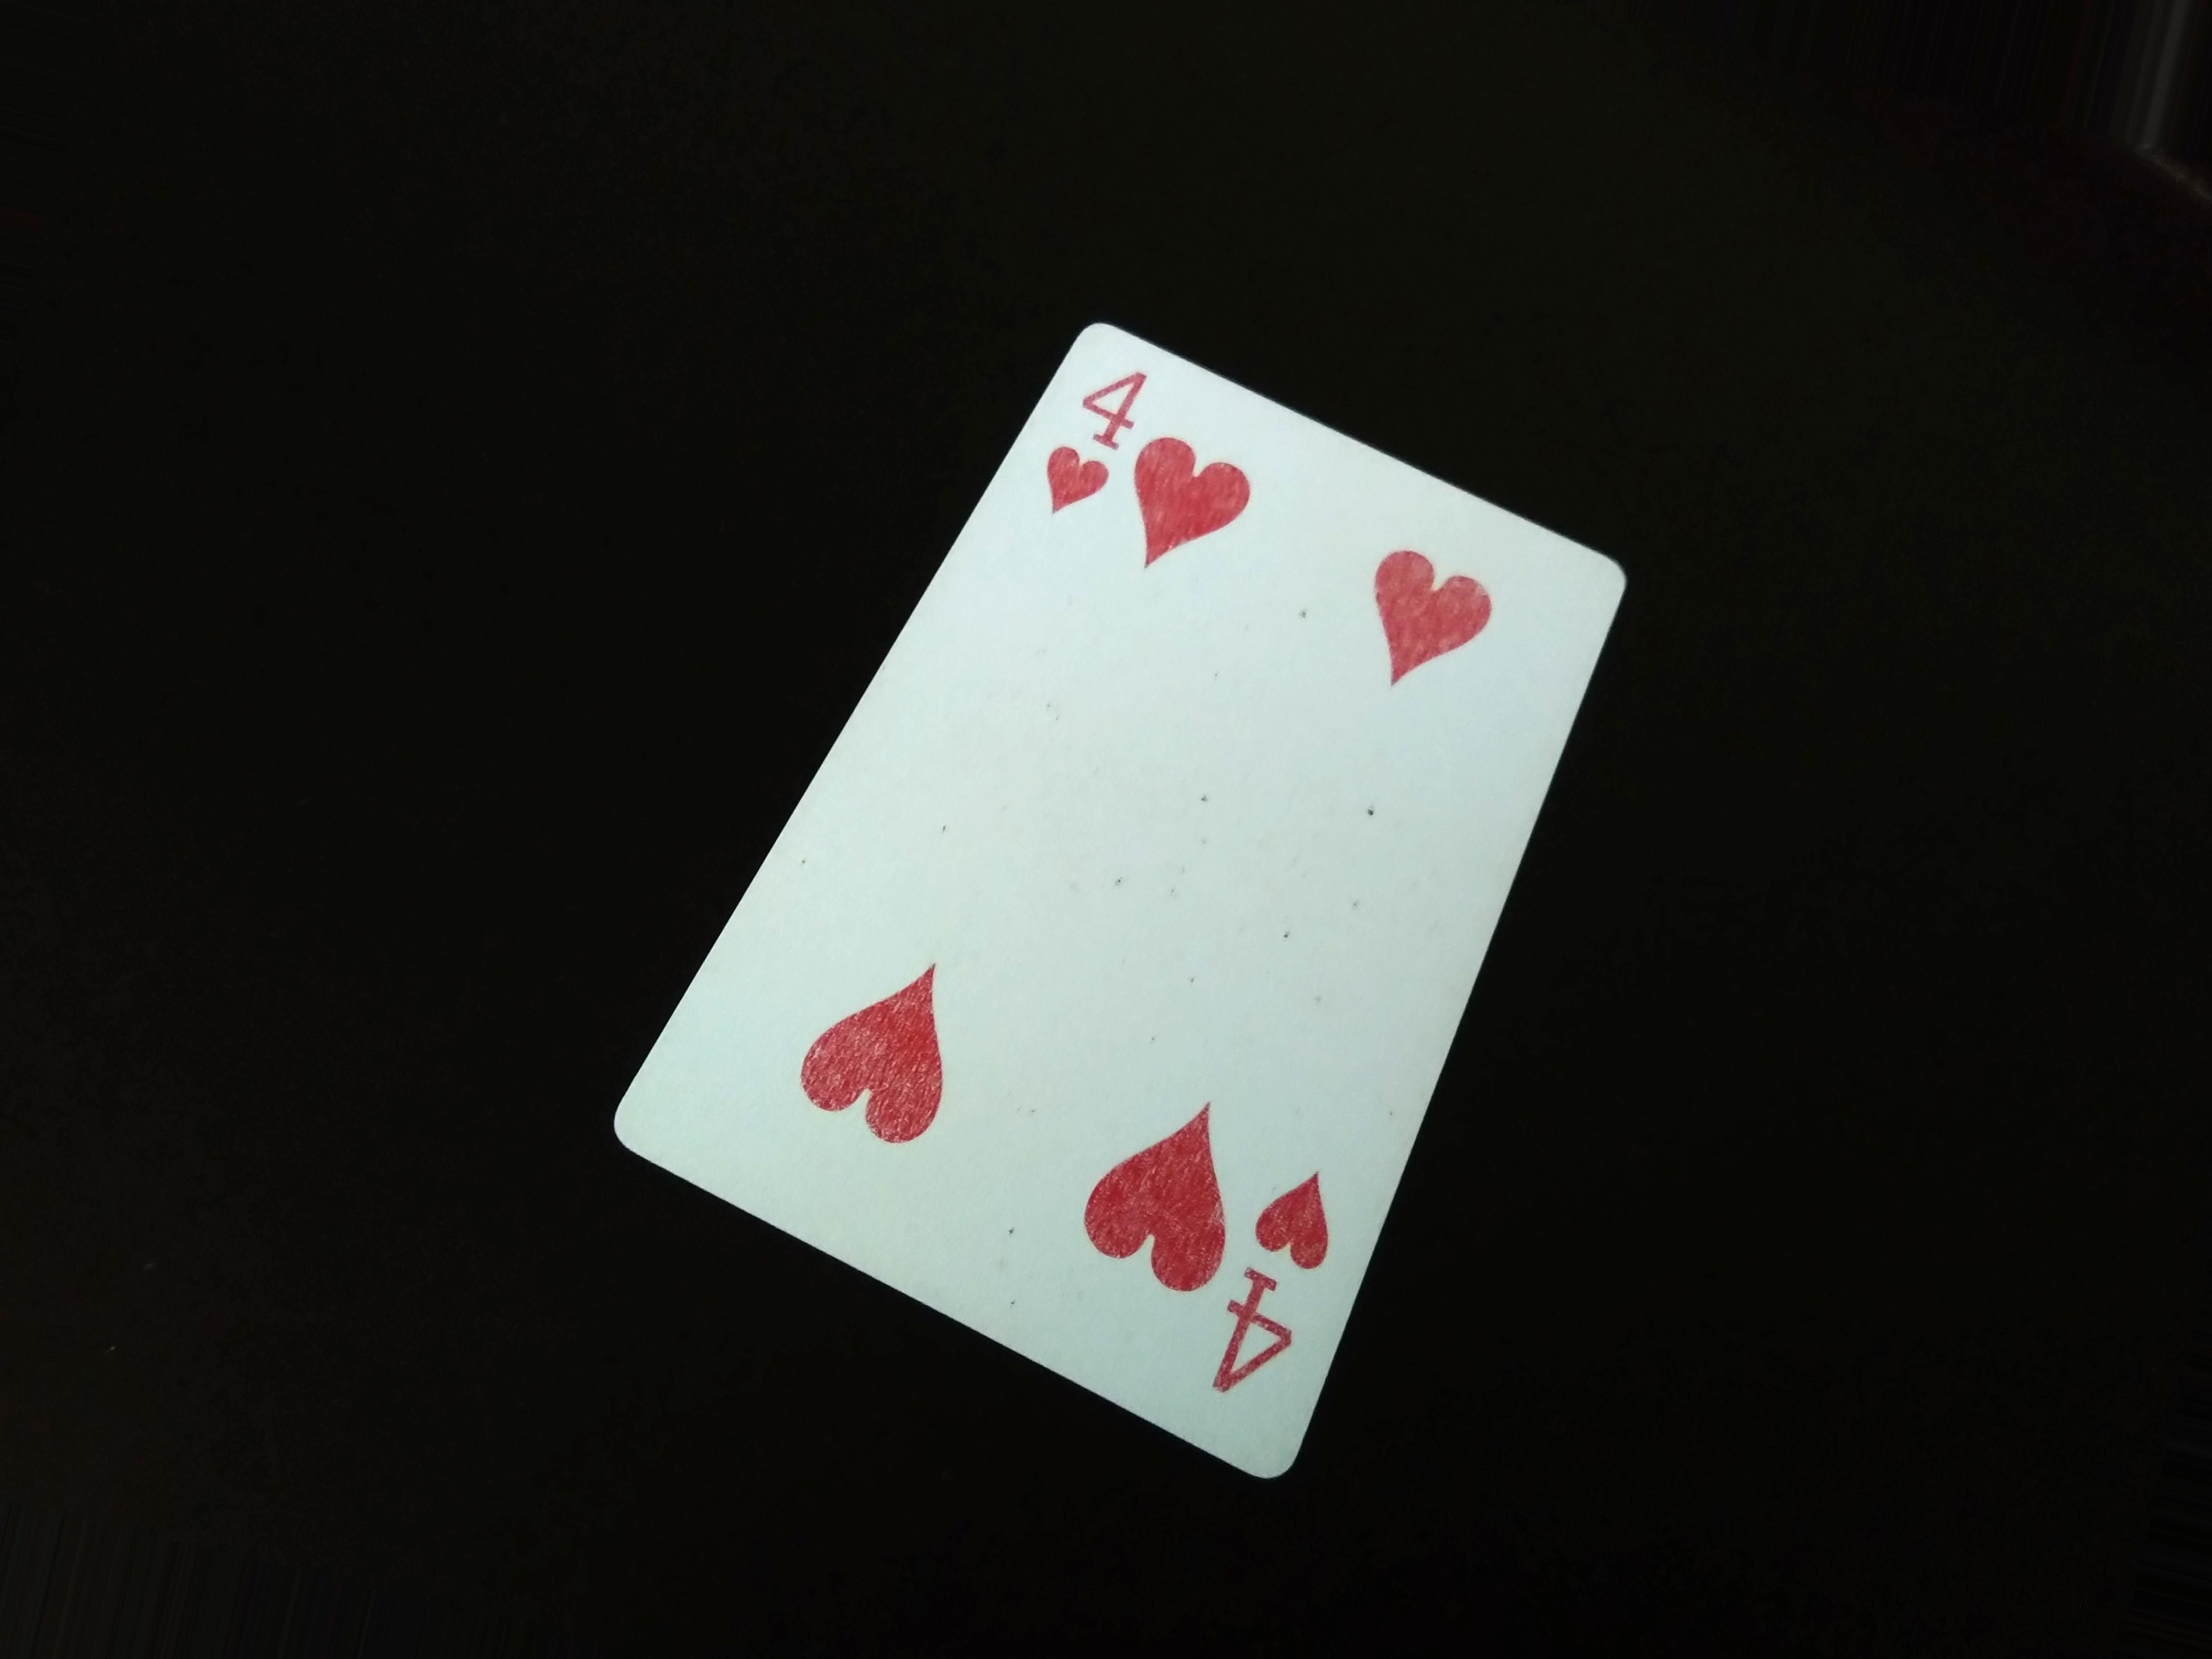4H: (1212, 1148, 1348, 1422)
